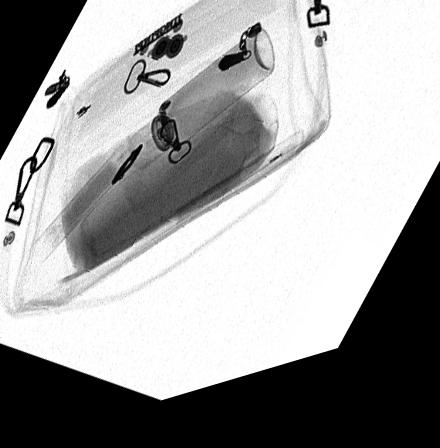Sprayer: (127, 42, 275, 176)
